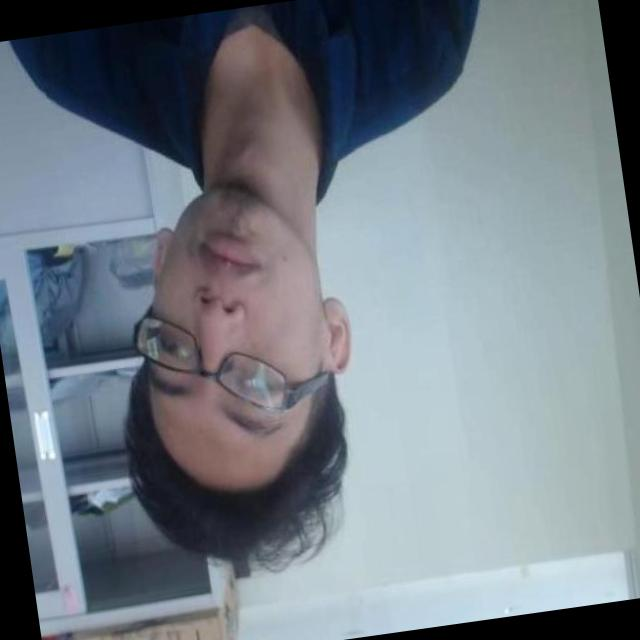bareface: (37, 182, 386, 568)
